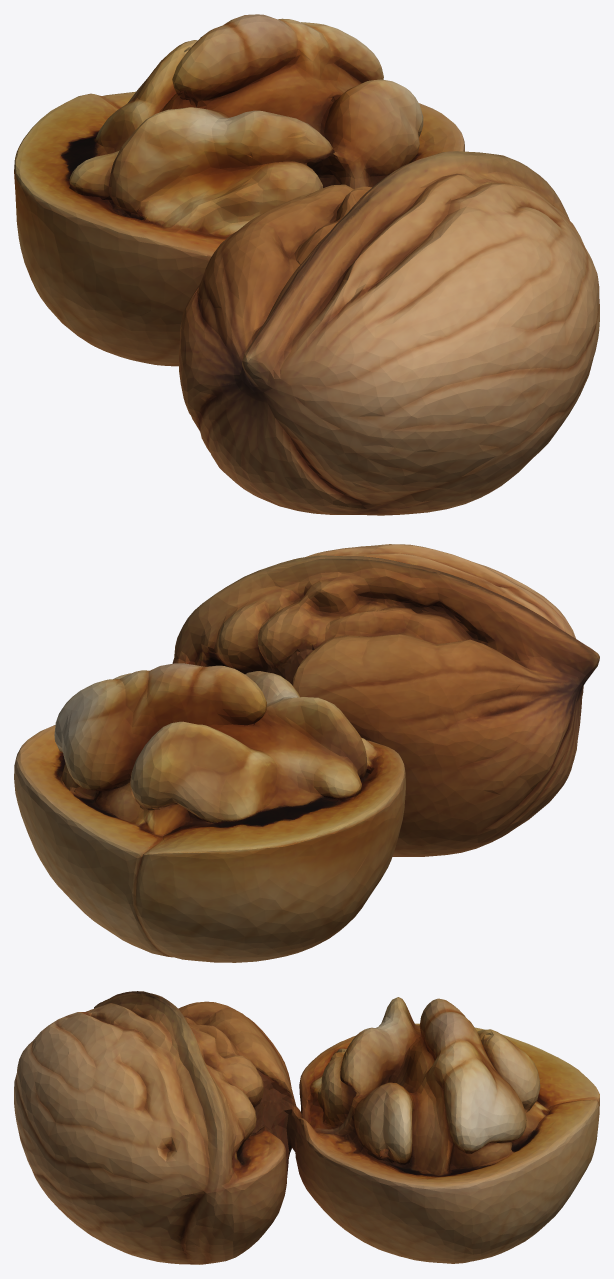
The model's file is walnuts.glb.
3 renders of one model, top to bottom at view 1: azimuth 30°, elevation 25°; view 2: azimuth 150°, elevation 25°; view 3: azimuth 270°, elevation 25°, orthographic. The views are drawn at different scales.
Parts seen in each view (by area): view 1: world; view 2: world; view 3: world.
Boxes of the visible parts, x1=… form: world: x1=14, y1=14, x2=599, y2=515; world: x1=14, y1=544, x2=599, y2=962; world: x1=14, y1=991, x2=599, y2=1264.
Size of the model in its own units: 0.6382 by 0.4652 by 0.9975.
1 material, 1 textured.
